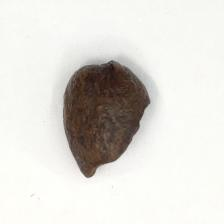NG: (80, 98, 153, 180)
